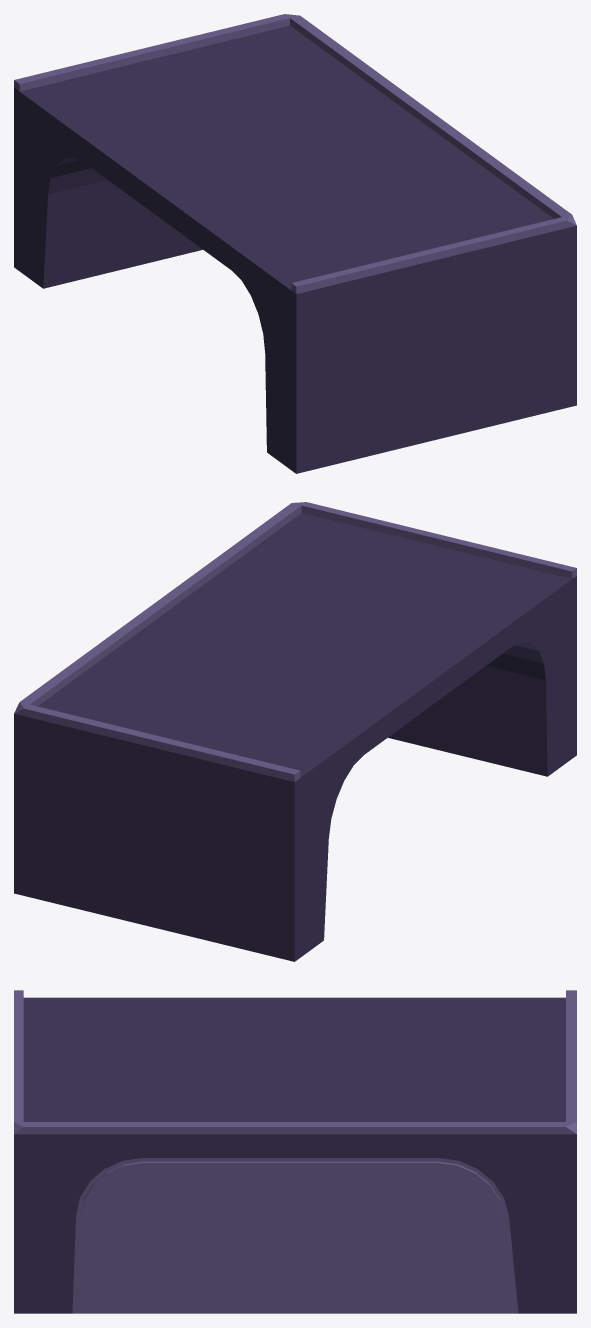
The model's file is Simple_Desk.fbx.
The picture shows the model from 3 angles, top to bottom: view 1: azimuth 30°, elevation 25°; view 2: azimuth 150°, elevation 25°; view 3: azimuth 270°, elevation 25°; orthographic projection.
Parts seen in each view (by area): view 1: Desk; view 2: Desk; view 3: Desk.
Boxes of the visible parts, x1=… form: Desk: x1=14, y1=14, x2=576, y2=473; Desk: x1=14, y1=502, x2=576, y2=961; Desk: x1=14, y1=990, x2=576, y2=1313.
Bounding box in the file's own units: 1.48 × 0.937 × 2.56.
